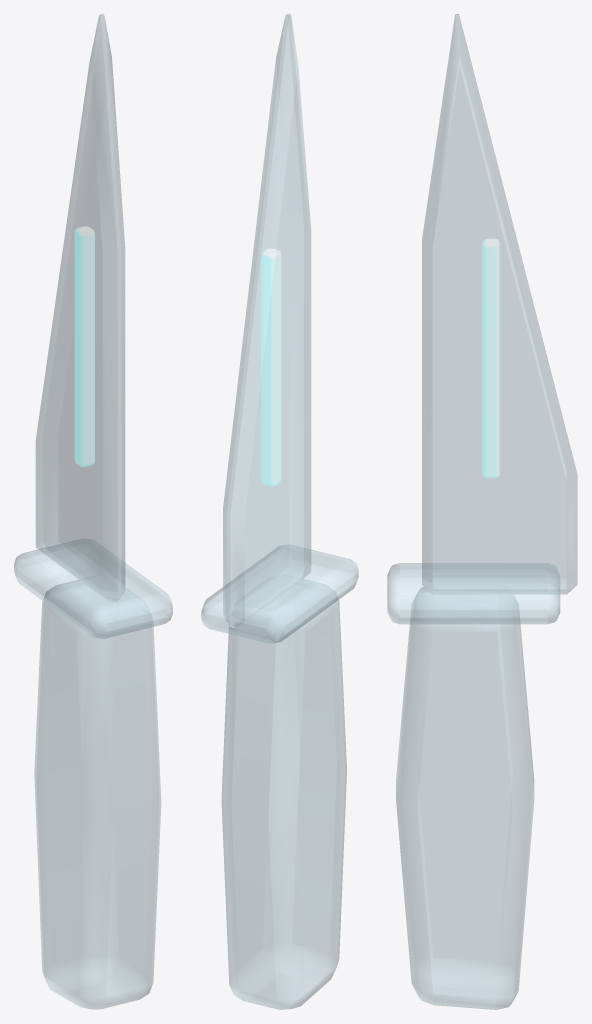
The model's file is shard.glb.
The picture shows the model from 3 angles, left to right: view 1: azimuth 30°, elevation 25°; view 2: azimuth 150°, elevation 25°; view 3: azimuth 270°, elevation 25°; orthographic projection.
Visible parts, largest first — view 1: handle, blade, bolster, core; view 2: handle, blade, bolster, core; view 3: blade, handle, bolster, core.
Boxes of the visible parts, bbox=[...] form: handle: bbox=[34, 580, 161, 1009]; blade: bbox=[35, 14, 125, 603]; bolster: bbox=[14, 539, 172, 638]; core: bbox=[74, 226, 94, 466]; handle: bbox=[221, 579, 346, 1009]; blade: bbox=[223, 14, 311, 627]; bolster: bbox=[201, 545, 358, 643]; core: bbox=[261, 248, 281, 486]; blade: bbox=[422, 14, 577, 594]; handle: bbox=[396, 587, 534, 1009]; bolster: bbox=[387, 563, 560, 624]; core: bbox=[482, 238, 499, 477].
Size of the model in its own units: 0.022 by 0.2511 by 0.044.
